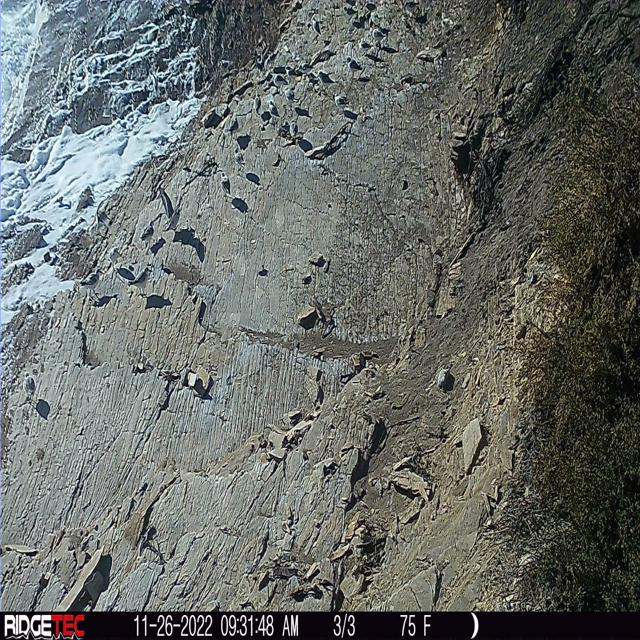bird: (233, 41, 326, 159)
